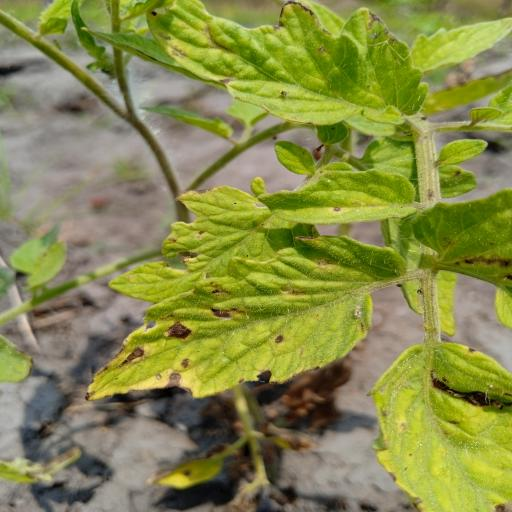Tomato_Brown_Spots: (96, 232, 422, 410)
